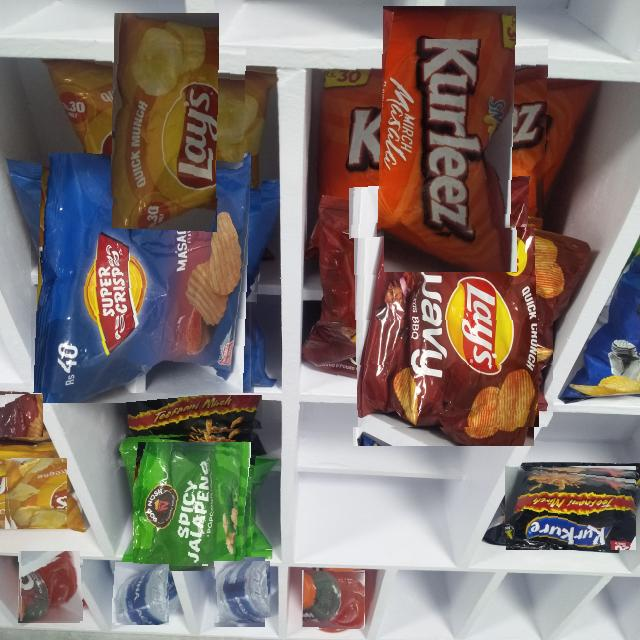Plastic: (31, 162, 262, 393), (333, 207, 553, 427), (349, 39, 549, 239), (87, 39, 246, 198), (133, 443, 256, 566), (504, 465, 636, 550), (120, 395, 262, 442), (16, 553, 83, 621), (4, 458, 67, 529), (208, 561, 270, 623), (304, 568, 364, 629), (600, 303, 640, 393), (112, 564, 171, 623), (0, 394, 43, 437)
